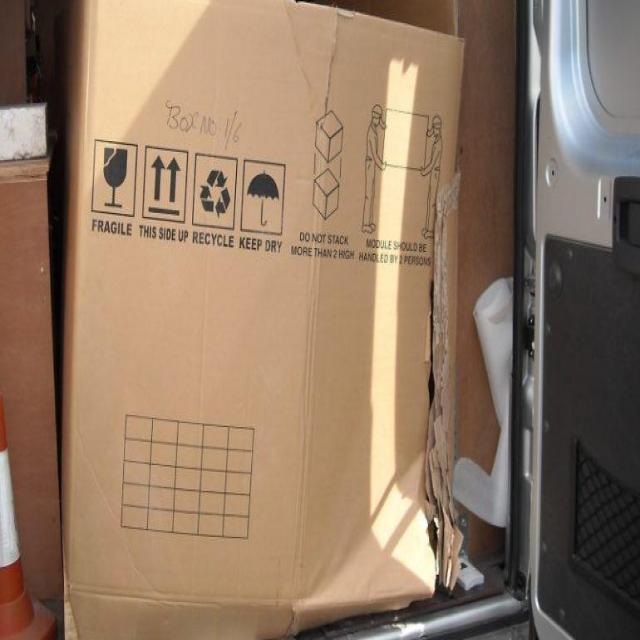damaged: (423, 263, 442, 560)
